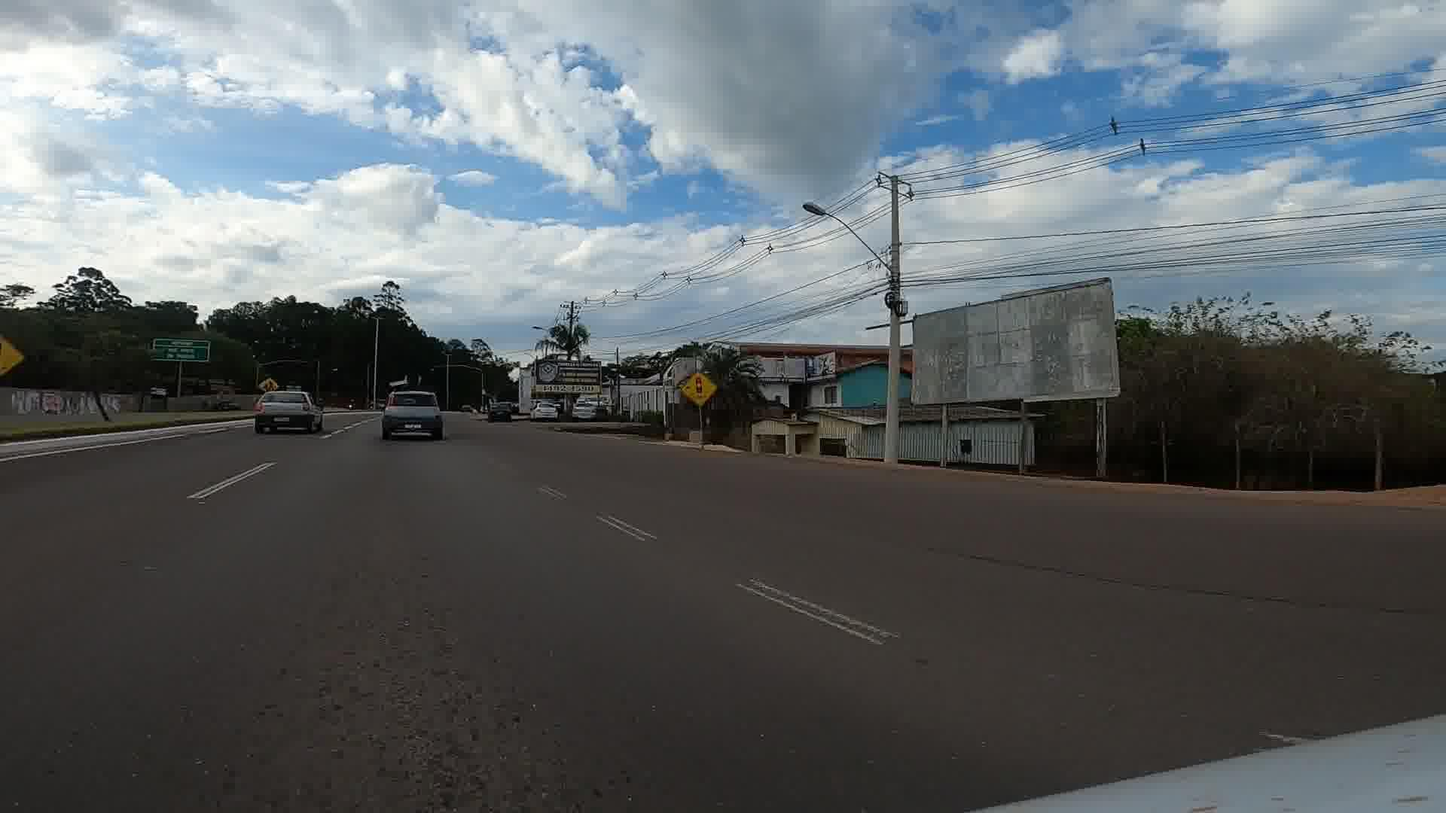A-14: (679, 370, 719, 408)
